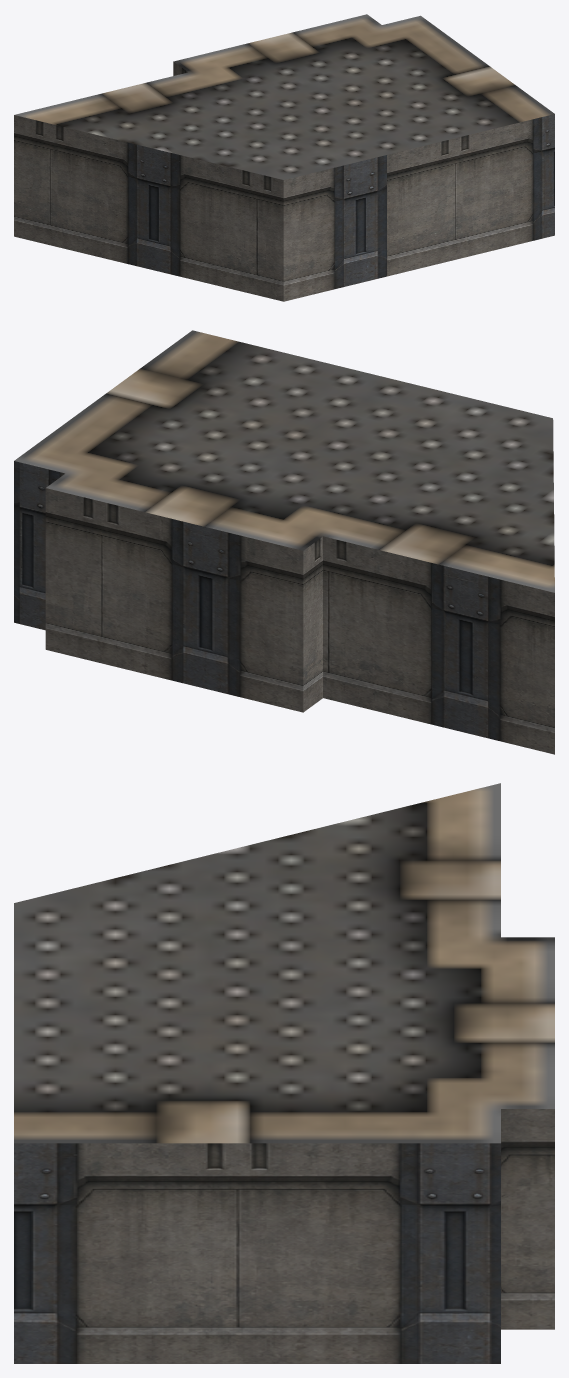
Rendered from building_heavy_a_24.glb.
The picture shows the model from 3 angles, top to bottom: view 1: azimuth 30°, elevation 25°; view 2: azimuth 150°, elevation 25°; view 3: azimuth 270°, elevation 25°; orthographic projection. The views are drawn at different scales.
Parts seen in each view (by area): view 1: buildings/saxarba/building_heavy/building_heavy_a_24; view 2: buildings/saxarba/building_heavy/building_heavy_a_24; view 3: buildings/saxarba/building_heavy/building_heavy_a_24.
Boxes of the visible parts, x1,y1,x2,y2 form: buildings/saxarba/building_heavy/building_heavy_a_24: (14,14,554,301); buildings/saxarba/building_heavy/building_heavy_a_24: (14,330,554,754); buildings/saxarba/building_heavy/building_heavy_a_24: (14,783,554,1363).
Bounding box in the file's own units: 63 × 18 × 40.
